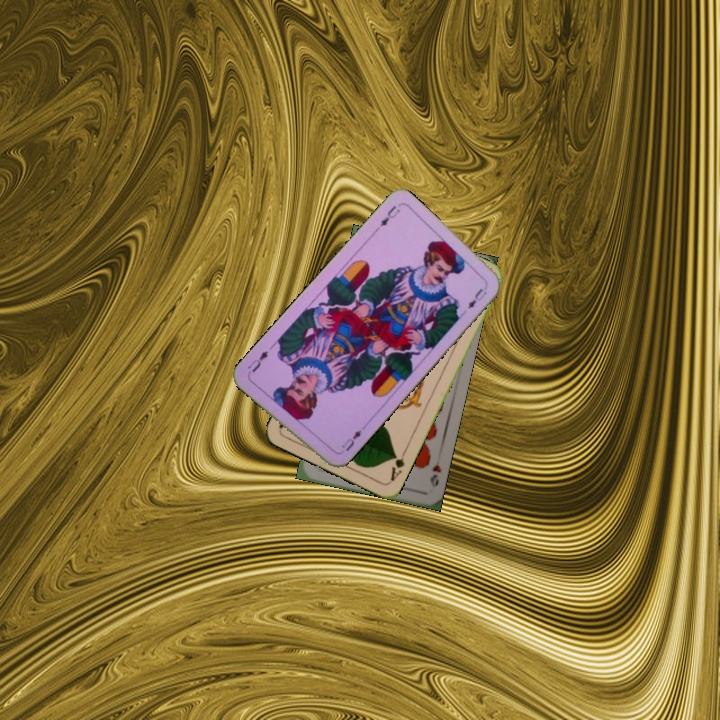EU: (370, 201, 403, 235), (335, 426, 364, 457)
GA: (386, 446, 409, 484)
H9: (426, 461, 444, 490)
